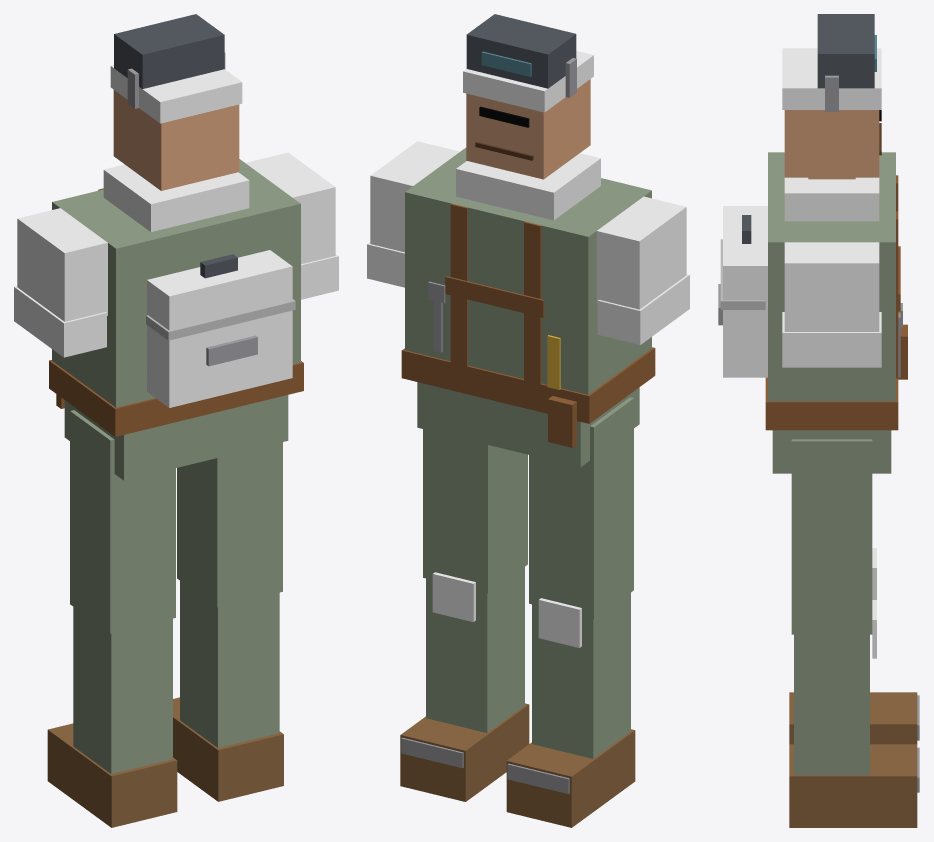
The model's file is ENGINEER.gltf.
3 renders of one model, left to right at view 1: azimuth 30°, elevation 25°; view 2: azimuth 150°, elevation 25°; view 3: azimuth 270°, elevation 25°, orthographic.
Visible parts, largest first — view 1: ENGINEER; view 2: ENGINEER; view 3: ENGINEER.
Boxes of the visible parts, x1,y1,x2,y2 form: ENGINEER: (14, 14, 338, 827); ENGINEER: (367, 14, 689, 827); ENGINEER: (718, 14, 919, 827).
Bounding box in the file's own units: 0.67 × 1.75 × 0.425.
